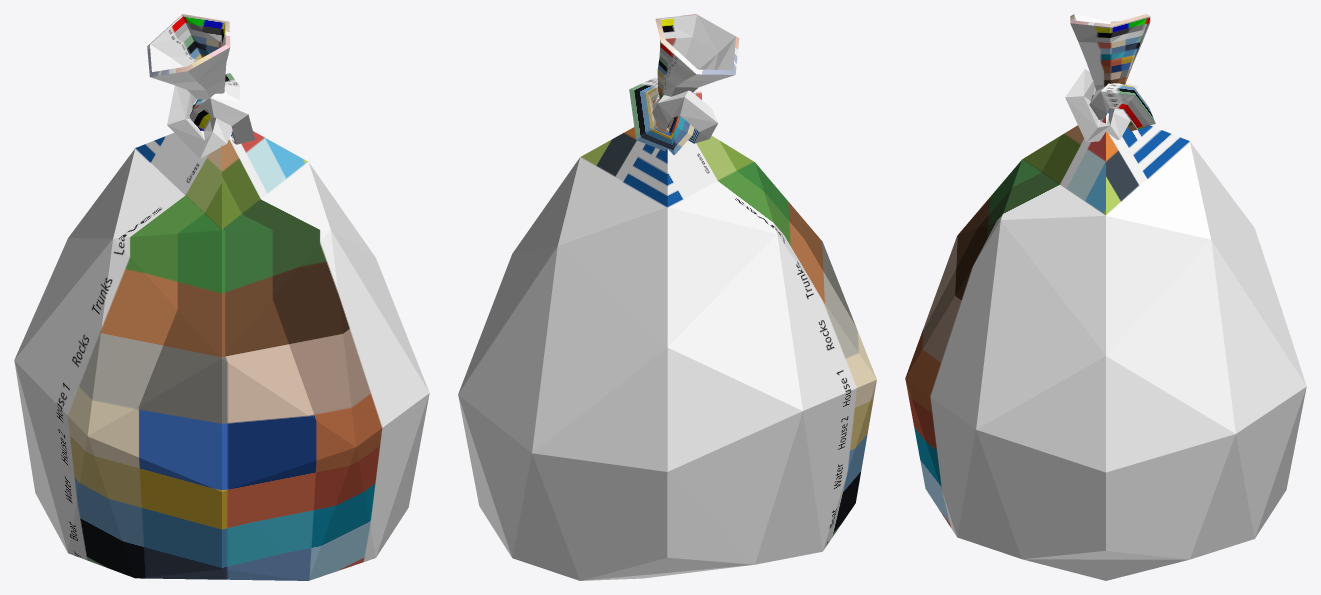
The model's file is trashbag_02.fbx.
3 views of the same model, side by side, from view 1: azimuth 30°, elevation 25°; view 2: azimuth 150°, elevation 25°; view 3: azimuth 270°, elevation 25° (orthographic). The views are drawn at different scales.
Parts seen in each view (by area): view 1: trashbag_02, trashbag_02_knot; view 2: trashbag_02, trashbag_02_knot; view 3: trashbag_02, trashbag_02_knot.
Part boxes in pixels (x1=…): trashbag_02: x1=14, y1=131, x2=429, y2=580; trashbag_02_knot: x1=147, y1=14, x2=255, y2=158; trashbag_02: x1=458, y1=127, x2=876, y2=580; trashbag_02_knot: x1=629, y1=14, x2=739, y2=155; trashbag_02: x1=905, y1=110, x2=1306, y2=580; trashbag_02_knot: x1=1065, y1=14, x2=1155, y2=142.
Bounding box in the file's own units: 75.91 × 107 × 76.33.
1 material, 1 textured.
